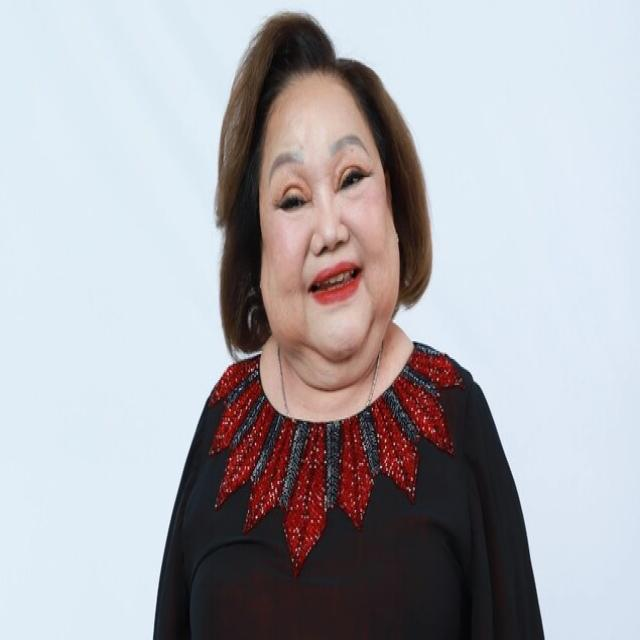Nonhelmet: (210, 8, 436, 370)
